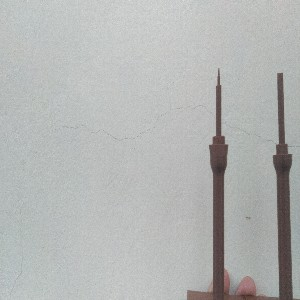obeng: (272, 72, 294, 300)
solder: (208, 67, 229, 300)
